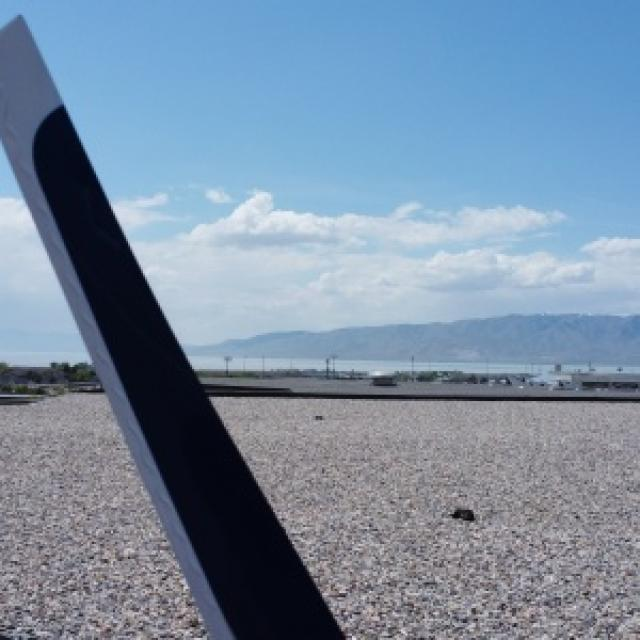healthy: (0, 19, 337, 638), (420, 561, 638, 638)
